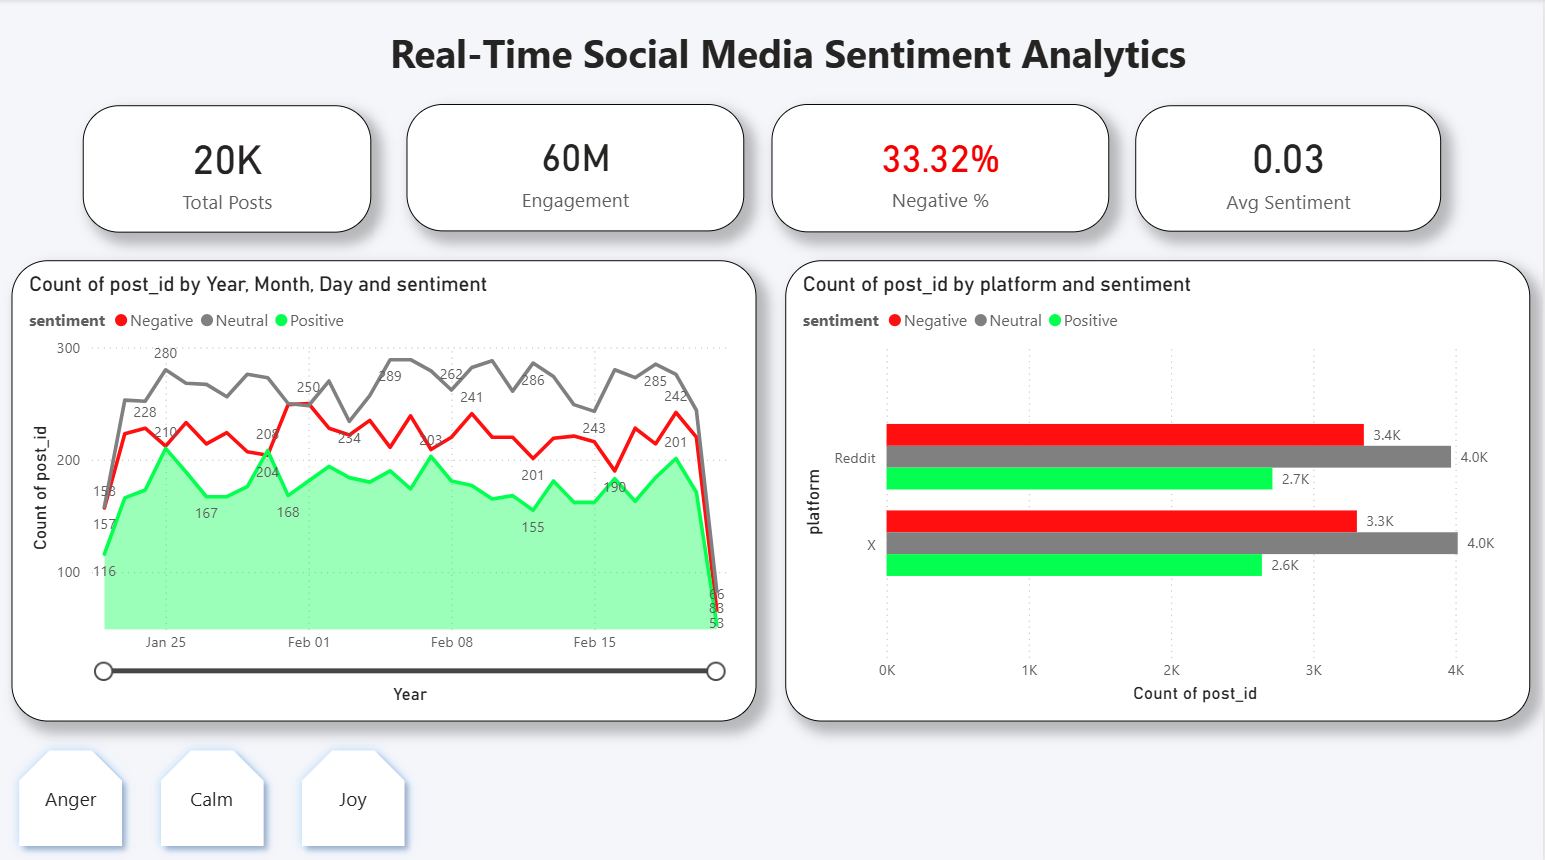

The dashboard page shown, as its layout file describes it:
{"tool":"powerbi","page":{"name":"Page 1","canvas":[1280,720],"ordinal":0},"visuals":[{"type":"card","fields":{"Values":["Social_Data.Avg Sentiment"]},"box":[942,88.1,253.9,104.7],"z":0},{"type":"card","fields":{"Values":["Social_Data.Engagement"]},"box":[337.6,86.6,279.9,105.3],"z":1},{"type":"card","fields":{"Values":["Social_Data.Negative %"]},"box":[640.4,87,279.8,106.7],"z":2},{"type":"card","fields":{"Values":["Social_Data.Total Posts"]},"box":[69.3,88,239.5,105.3],"z":3},{"type":"lineChart","fields":{"Y":["CountNonNull(Social_Data.post_id)"],"Series":["Social_Data.sentiment"],"Category":["Social_Data.Date.Variation.Date Hierarchy.Year","Social_Data.Date.Variation.Date Hierarchy.Month","Social_Data.Date.Variation.Date Hierarchy.Day"]},"box":[10.1,216.4,617.5,382.3],"z":4},{"type":"clusteredBarChart","fields":{"Category":["Social_Data.platform"],"Y":["CountNonNull(Social_Data.post_id)"],"Series":["Social_Data.sentiment"]},"box":[651.8,216.6,617.6,382.4],"z":5},{"type":"textbox","box":[318.9,17.3,686.8,69.3],"z":6},{"type":"advancedSlicerVisual","fields":{"Values":["Social_Data.emotion"]},"box":[0,606,353.5,114],"z":7}]}

Visuals, with their boxes in screenshot pixels (x1, y1, x2, y2), scaled from the page's 1280x720 canvas onto the 1545x860 screenshot:
card - Social_Data.Avg Sentiment: bbox=[1137, 105, 1443, 230]
card - Social_Data.Engagement: bbox=[407, 103, 745, 229]
card - Social_Data.Negative %: bbox=[773, 104, 1111, 231]
card - Social_Data.Total Posts: bbox=[84, 105, 373, 231]
lineChart - CountNonNull(Social_Data.post_id) x Social_Data.sentiment: bbox=[12, 258, 758, 715]
clusteredBarChart - Social_Data.platform x CountNonNull(Social_Data.post_id): bbox=[787, 259, 1532, 715]
textbox: bbox=[385, 21, 1214, 103]
advancedSlicerVisual - Social_Data.emotion: bbox=[0, 724, 427, 859]
